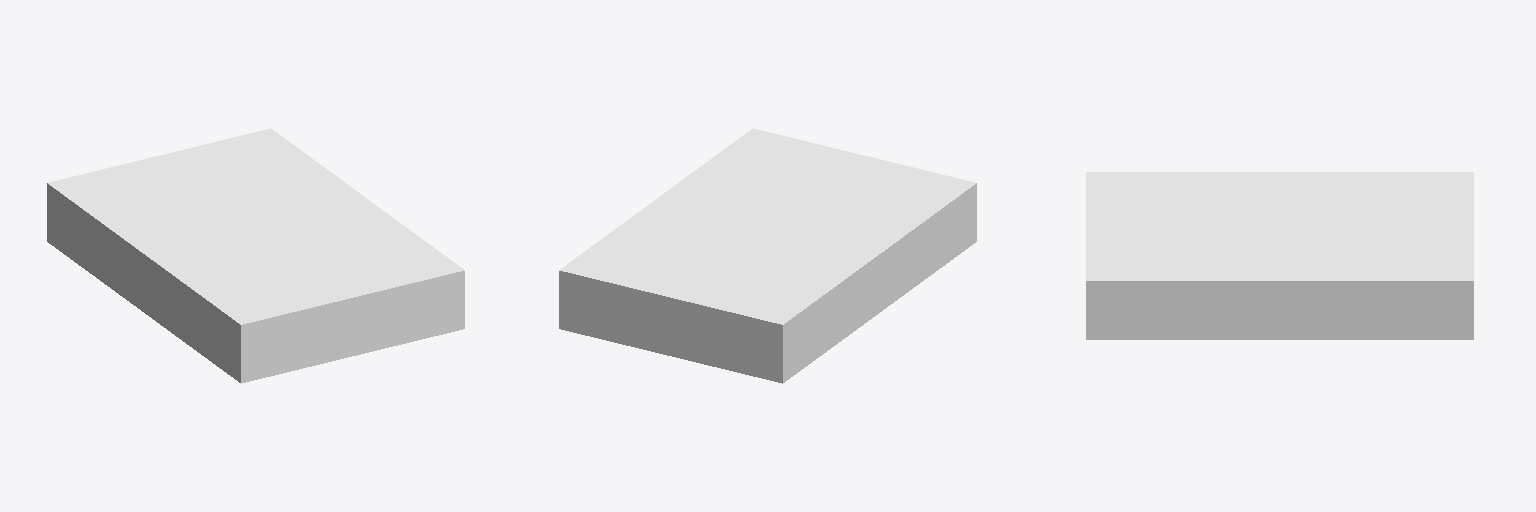
The model's file is apacola1.obj.
3 views of the same model, side by side, from view 1: azimuth 30°, elevation 25°; view 2: azimuth 150°, elevation 25°; view 3: azimuth 270°, elevation 25° (orthographic).
Visible parts, largest first — view 1: apacola1.001; view 2: apacola1.001; view 3: apacola1.001.
Part boxes in pixels (x1,y1,x2,y2): apacola1.001: (47, 128, 464, 383); apacola1.001: (559, 128, 976, 383); apacola1.001: (1086, 172, 1473, 339).
Bounding box in the file's own units: 0.8 × 0.2 × 1.2.